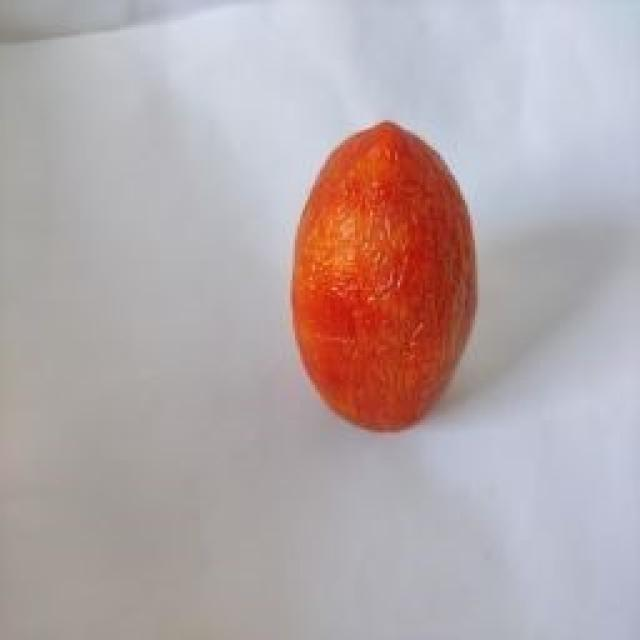overripe: (286, 116, 480, 436)
